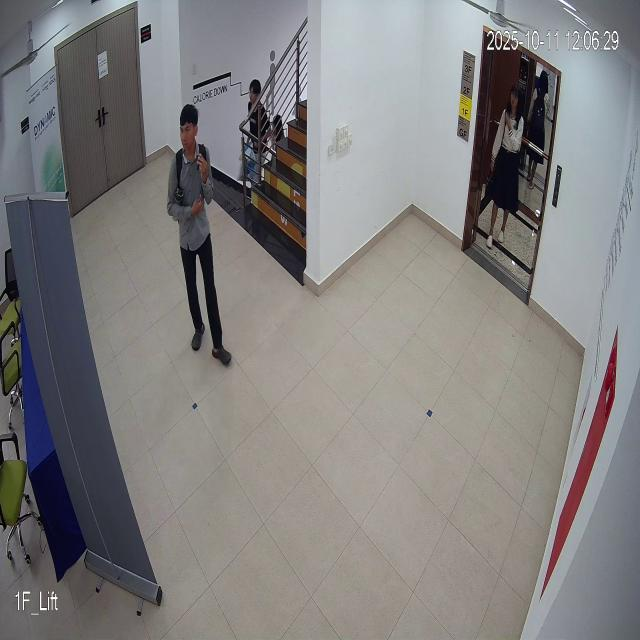face: (174, 99, 205, 160)
